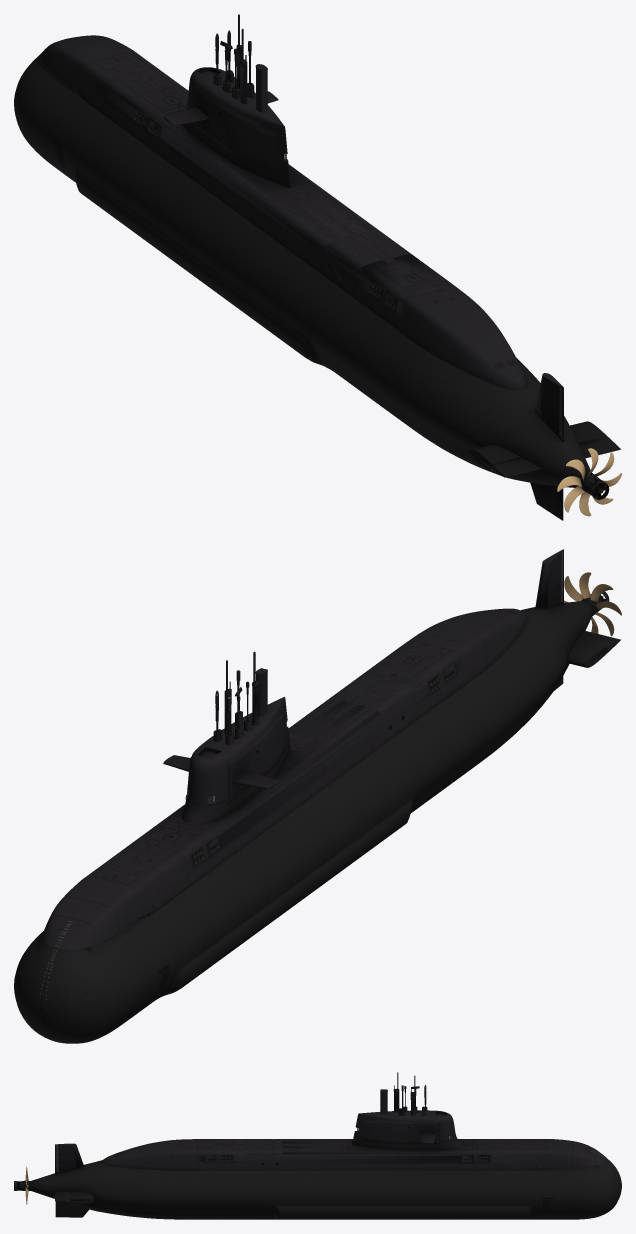
The model's file is dosan.glb.
3 renders of one model, top to bottom at view 1: azimuth 30°, elevation 25°; view 2: azimuth 150°, elevation 25°; view 3: azimuth 270°, elevation 25°, orthographic. The views are drawn at different scales.
Parts seen in each view (by area): view 1: Kss3_MainHull_Exterior; view 2: Kss3_MainHull_Exterior; view 3: Kss3_MainHull_Exterior.
Boxes of the visible parts, bbox=[...] form: Kss3_MainHull_Exterior: bbox=[14, 14, 621, 520]; Kss3_MainHull_Exterior: bbox=[14, 549, 621, 1043]; Kss3_MainHull_Exterior: bbox=[14, 1072, 621, 1219].
Bounding box in the file's own units: 10.19 × 22.11 × 85.11.
Materials: 3 (3 with a texture image).
